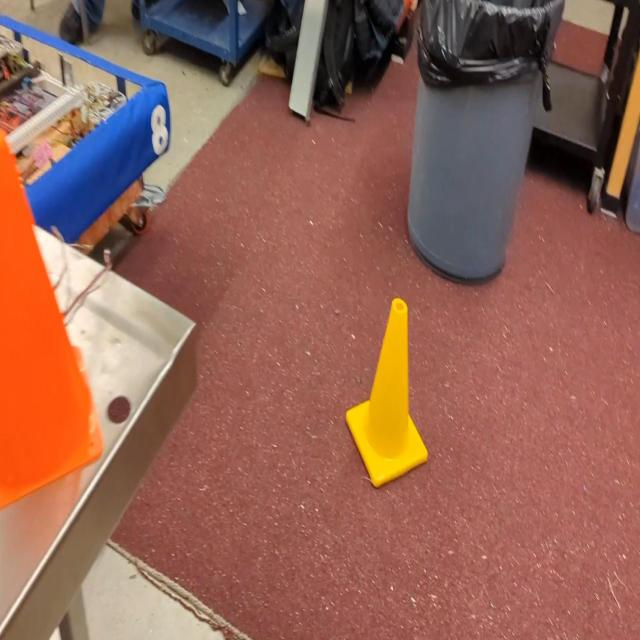frc_cone: (344, 295, 429, 492)
